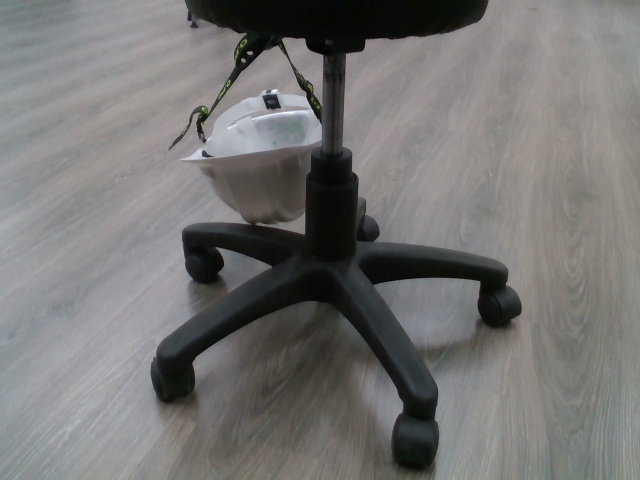helmet: (176, 88, 323, 220)
